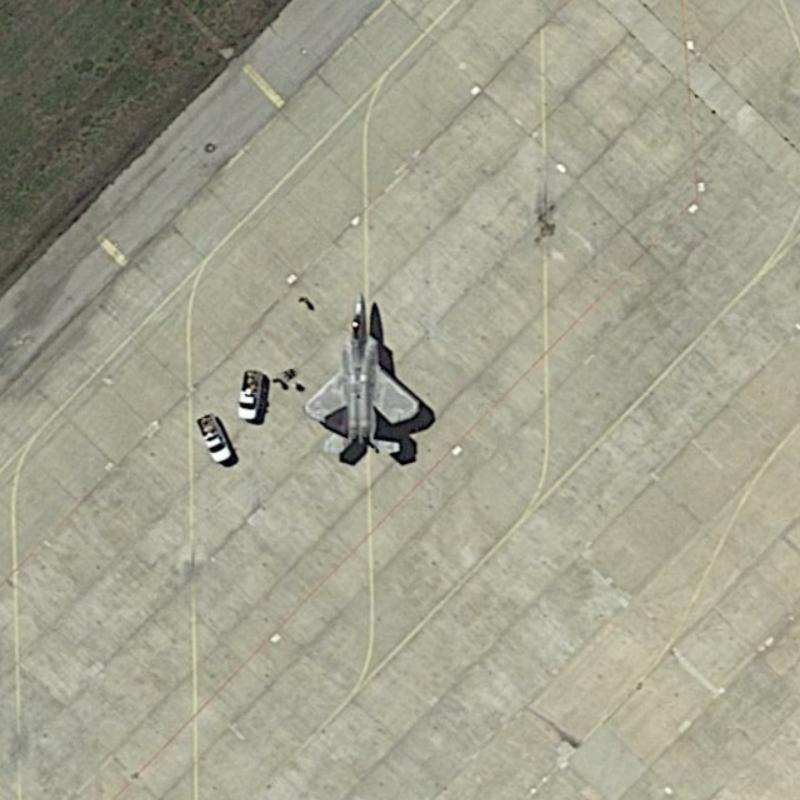A15: (298, 288, 446, 466)
